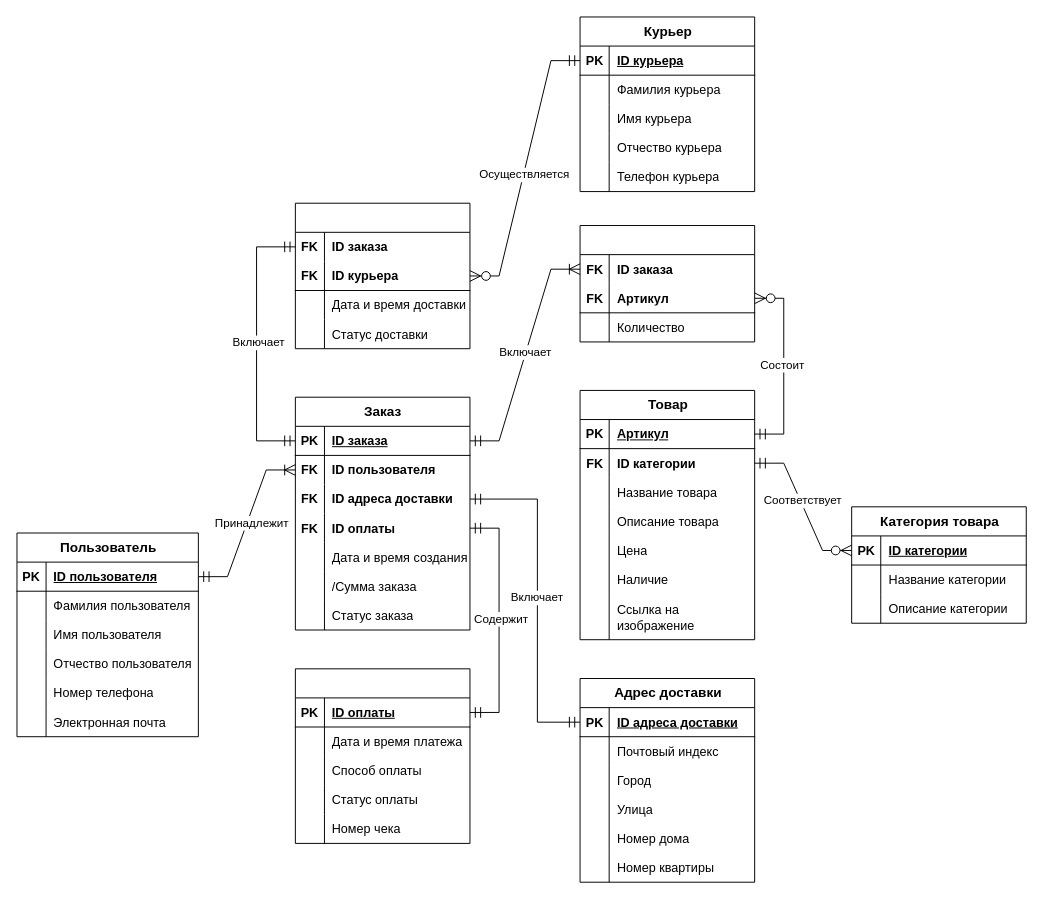
The diagram is 1044 pixels wide and 899 high, and some of its shapes have lost their labels. Each missing label, with the box of its shape:
Доставка: (294, 202, 470, 349)
Оплата: (294, 668, 470, 843)
Товар в заказе: (579, 225, 755, 342)
